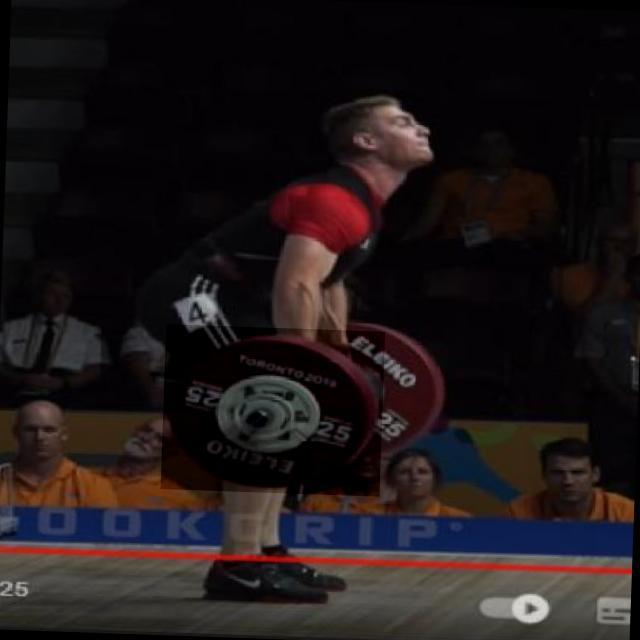barbell: (161, 325, 386, 497)
